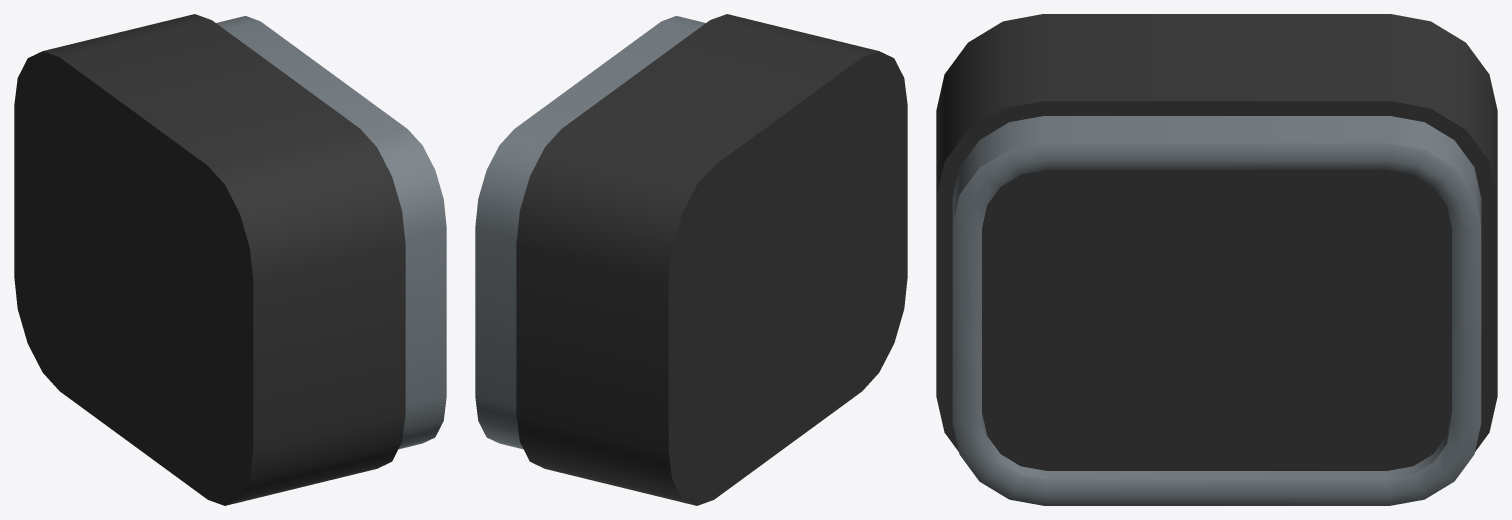
The model's file is DigitalClock.fbx.
3 views of the same model, side by side, from view 1: azimuth 30°, elevation 25°; view 2: azimuth 150°, elevation 25°; view 3: azimuth 270°, elevation 25° (orthographic). The views are drawn at different scales.
Parts seen in each view (by area): view 1: DigitalClock; view 2: DigitalClock; view 3: DigitalClock.
Part boxes in pixels (<box>): DigitalClock: <box>14,14,446,505</box>; DigitalClock: <box>475,14,907,505</box>; DigitalClock: <box>936,14,1497,505</box>.
Bounding box in the file's own units: 139 × 216 × 281.
